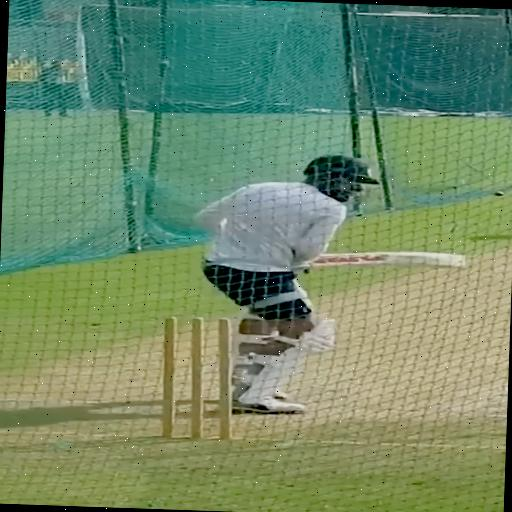Cricket bat: (311, 251, 465, 267)
